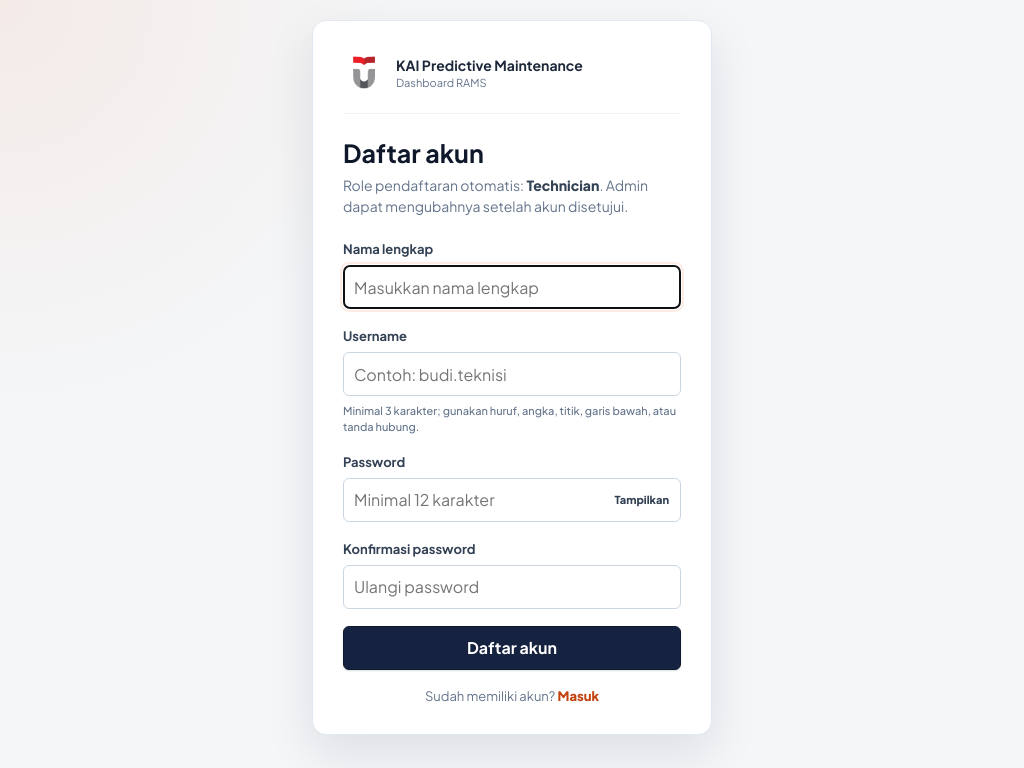
Test: RegisterForm › validates required fields
The width and height of the screenshot is (1024, 768).
Click the button "Daftar akun" at (512, 648), box [343,626,681,670]
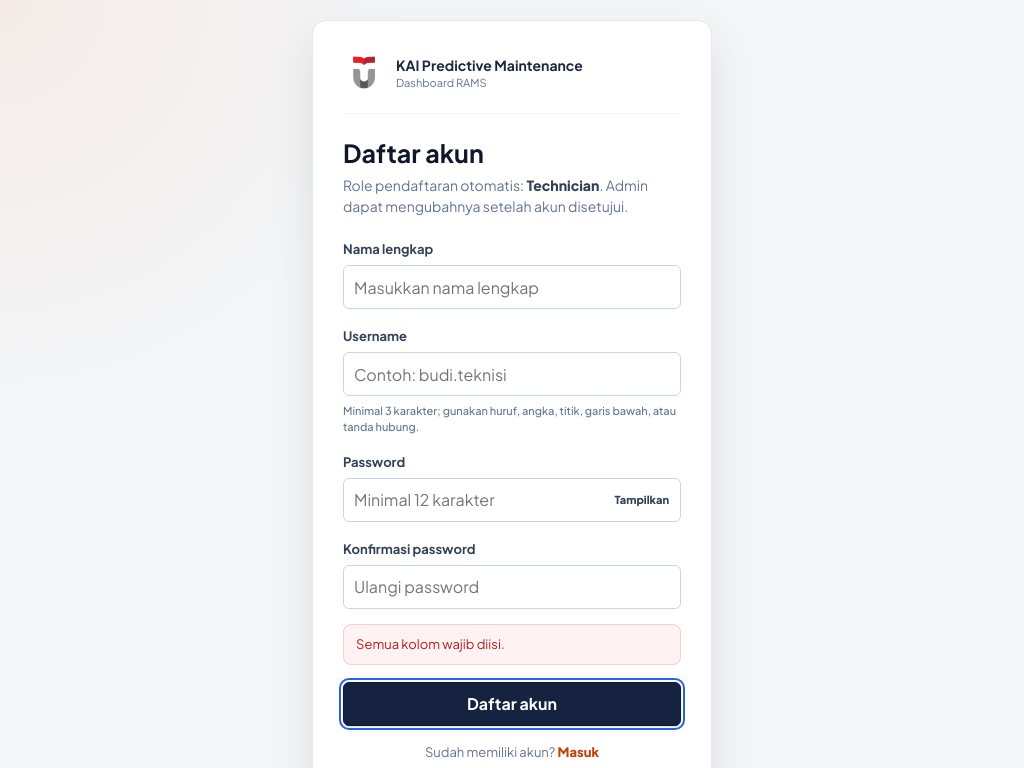
Expected: the message shows "Semua kolom wajib diisi", [356,636,505,652]
